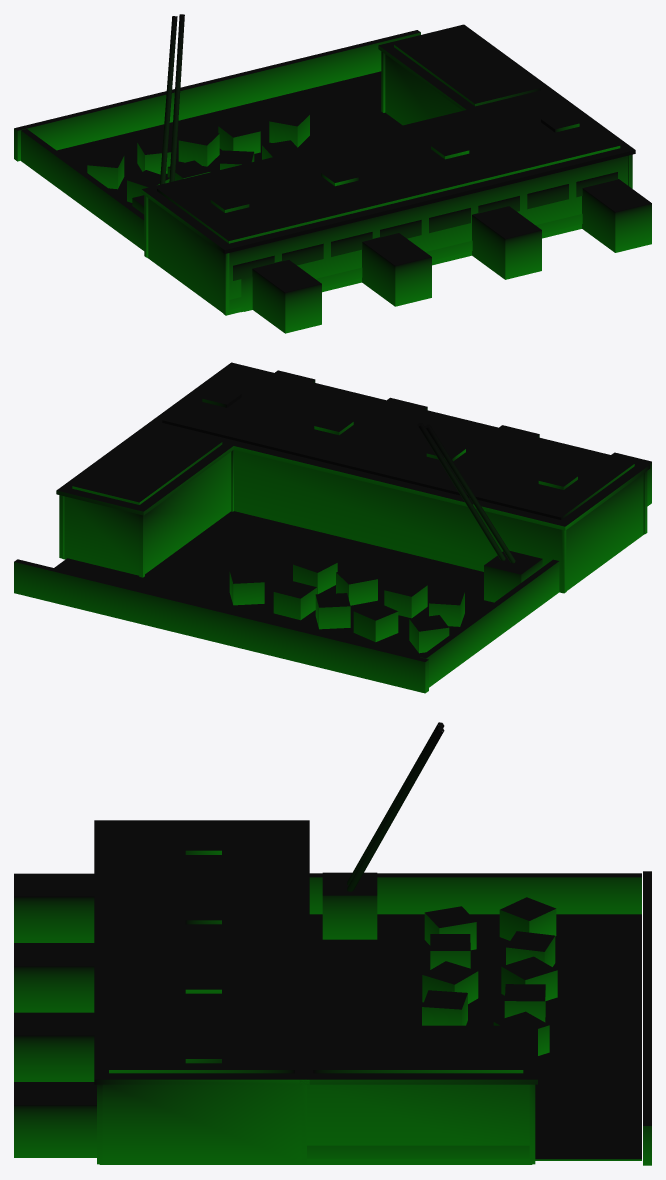
The model's file is weaponsfacility.glb.
3 renders of one model, top to bottom at view 1: azimuth 30°, elevation 25°; view 2: azimuth 150°, elevation 25°; view 3: azimuth 270°, elevation 25°, orthographic. The views are drawn at different scales.
Parts seen in each view (by area): view 1: lod0; view 2: lod0; view 3: lod0.
Part boxes in pixels (box(x1,y1,x2,y2)): lod0: box(14, 14, 651, 333); lod0: box(14, 362, 651, 693); lod0: box(14, 722, 651, 1165).
Size of what is drawn, in the model's own units: 33.6 by 14.4 by 34.95.
